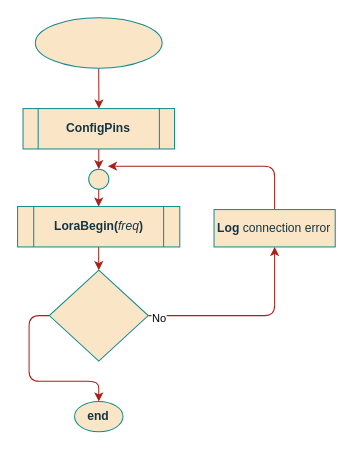
The diagram is 354 pixels wide and 449 high, and some of its shapes have lost their labels. Here are the shapes that lost their labels. From the top down, the centre of each, then its label:
At (x=98, y=42): "LoraComm IN: freq".
At (x=98, y=315): "Lora Initialized ?".
